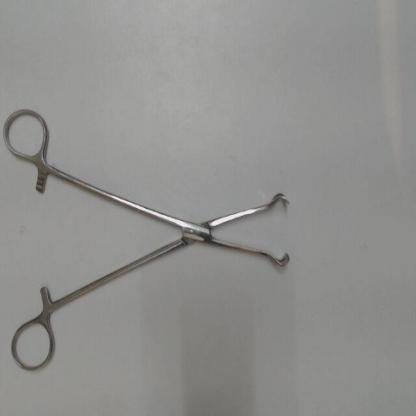8 Babcock Tissue Forceps: (2, 96, 297, 378)
